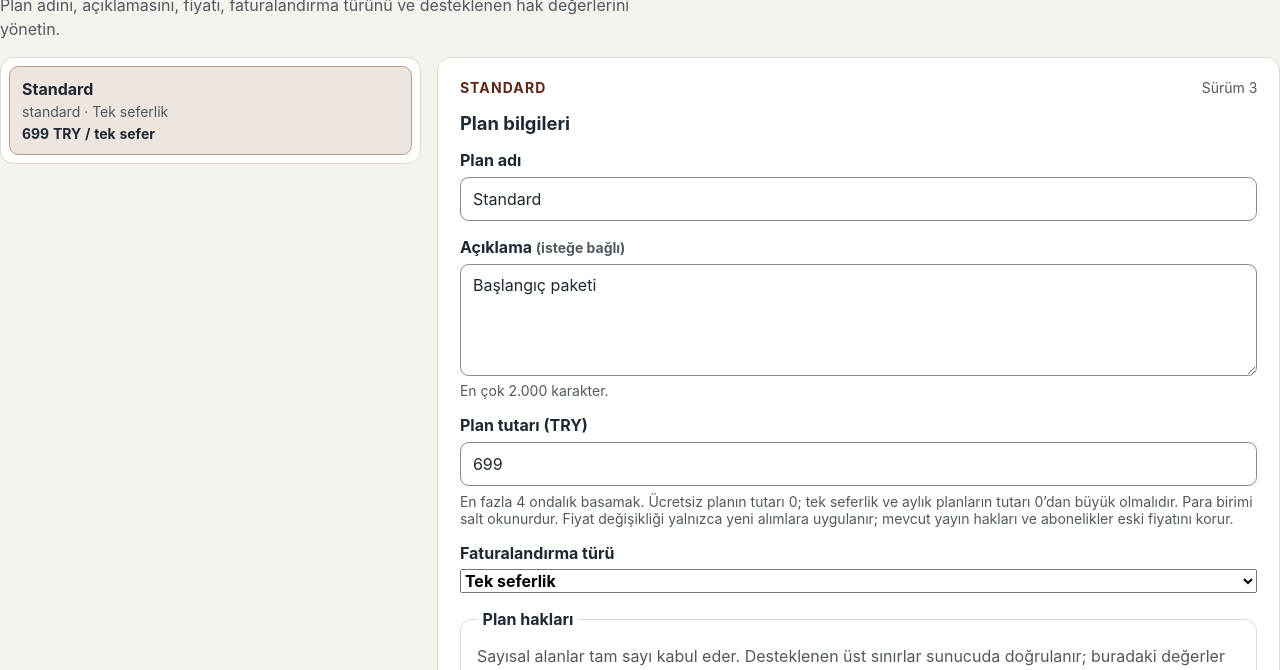
Scenario: Admin plan management › confirms changes and submits supported values, expected revision and CSRF
The image size is (1280, 670).
Expected: the heading "Plan bilgileri" is shown, left=460, top=112, right=570, bottom=134
Replace the text in the field labelled "Plan adı" with "Standard Plus": (859, 199) left=460, top=177, right=1257, bottom=221
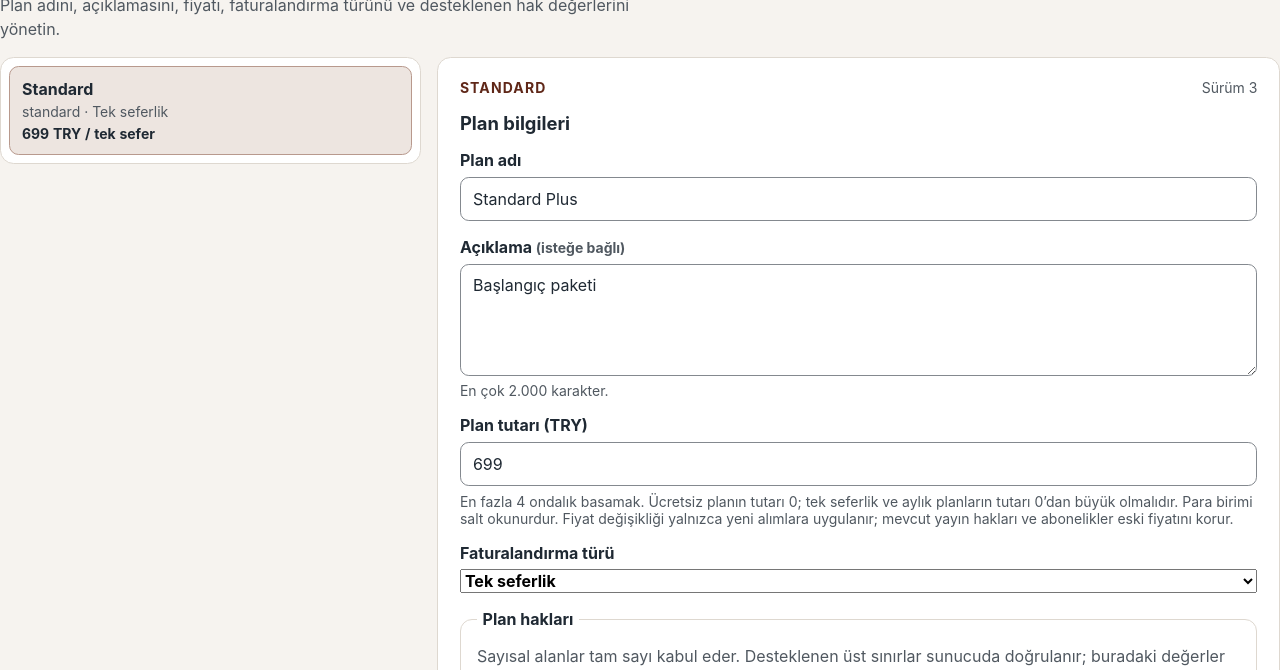
Replace the text in the number field labelled "Plan tutarı" with "799.125": (859, 464) left=460, top=442, right=1257, bottom=486
(page scrolled)
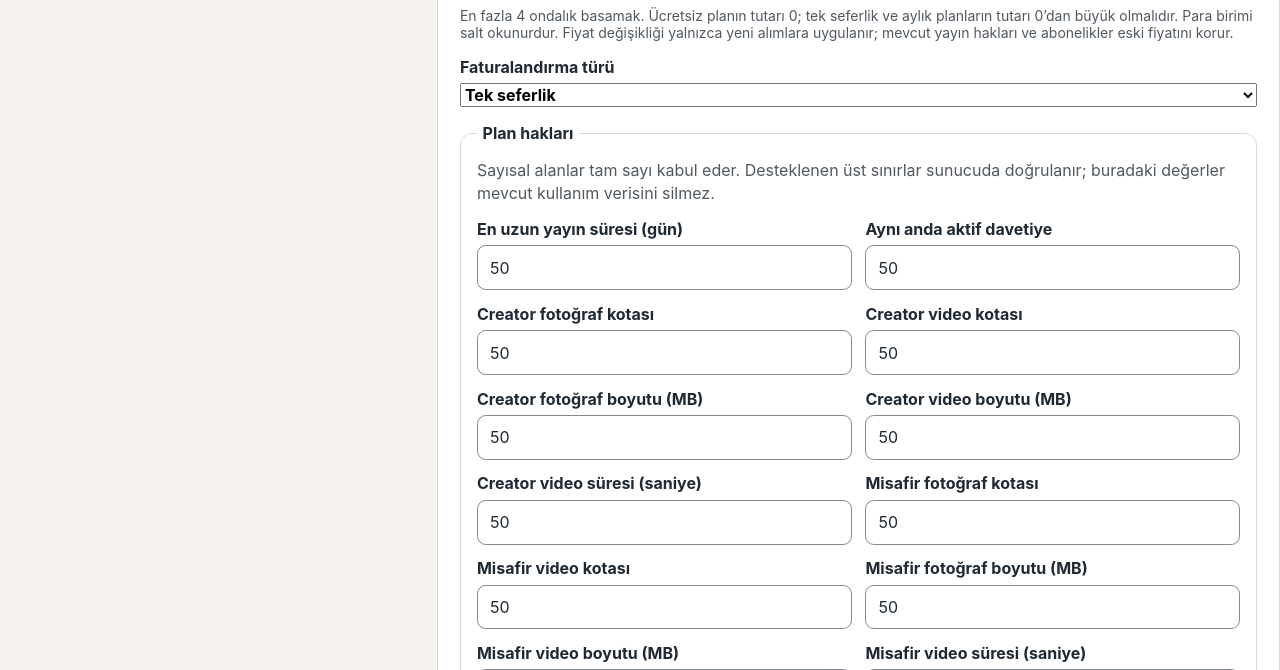
Replace the text in the number field labelled "Creator fotoğraf kotası" with "72": (664, 353) left=477, top=330, right=852, bottom=375
(page scrolled)
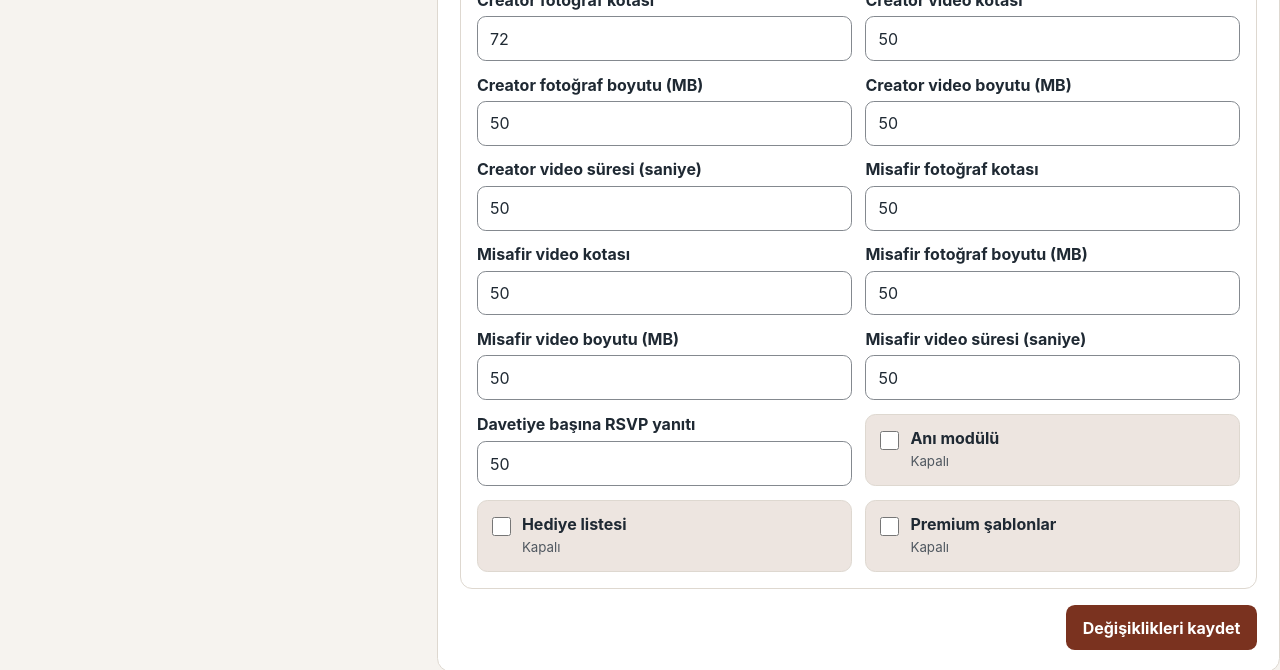
Click the checkbox labelled "Anı modülü Kapalı": (890, 440) left=880, top=431, right=899, bottom=450
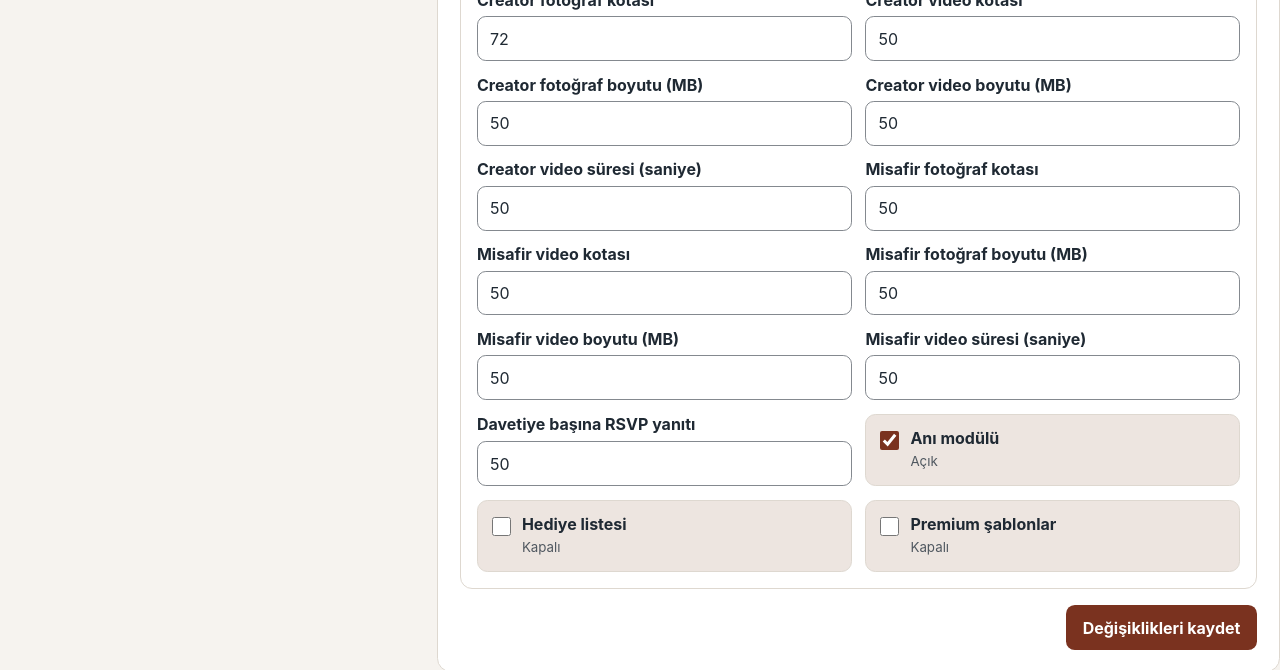
Click the button "Değişiklikleri kaydet": (1162, 628) left=1066, top=605, right=1257, bottom=650
(page scrolled)
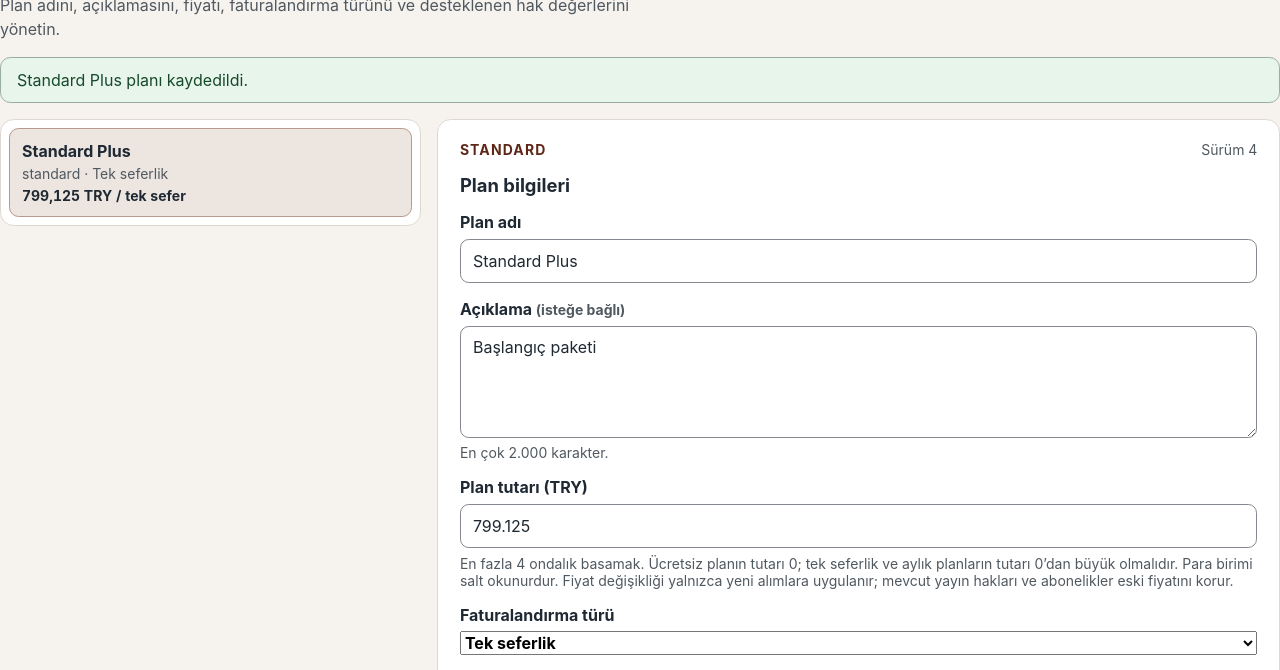
Now the text "Standard Plus" is shown, box left=22, top=141, right=131, bottom=161
Now the message reads "Standard Plus planı kaydedildi.", box left=17, top=70, right=248, bottom=90
